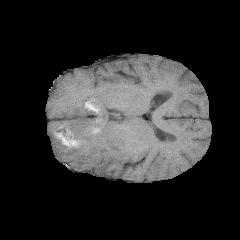glioma: (51, 96, 129, 169)
